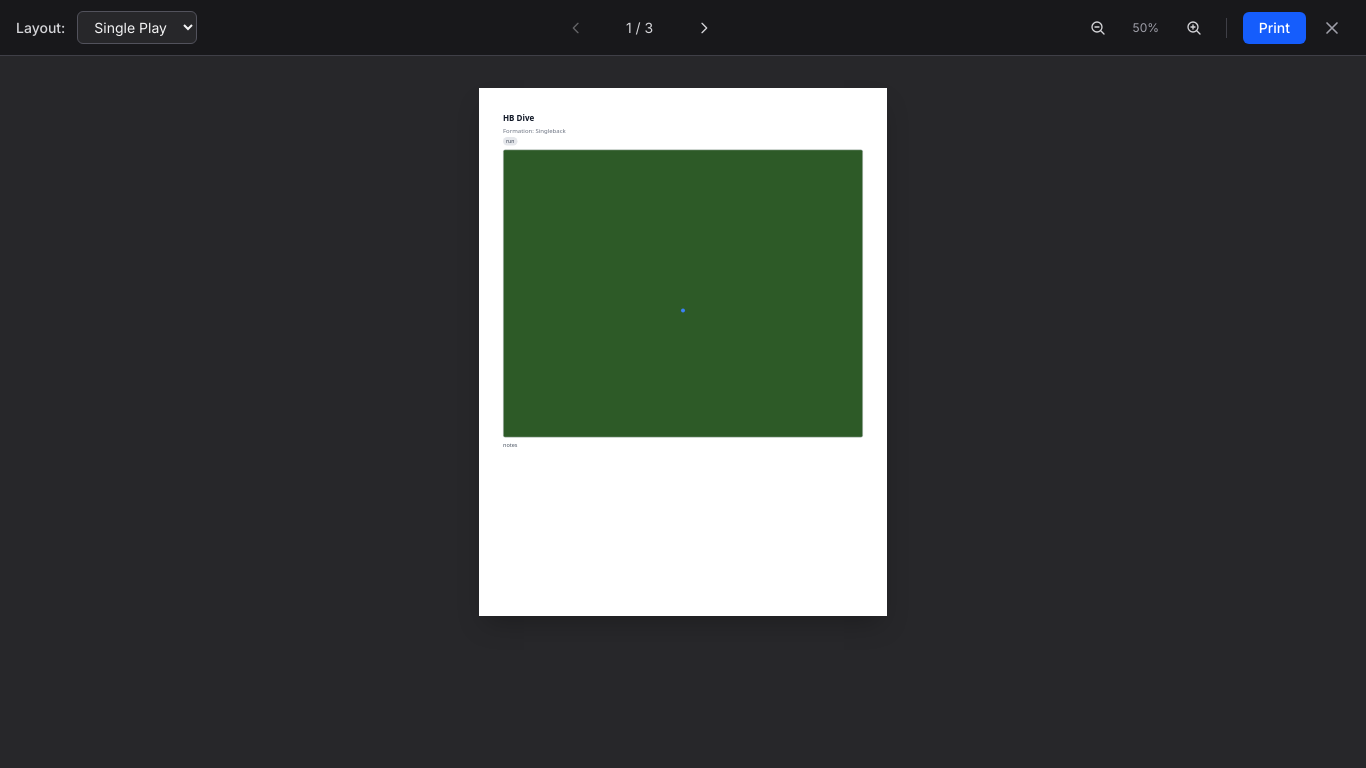
PrintPreview › Page navigation › navigates to next page
Click the button with test id "next-page-btn" at (704, 28), box [688,16,720,40]
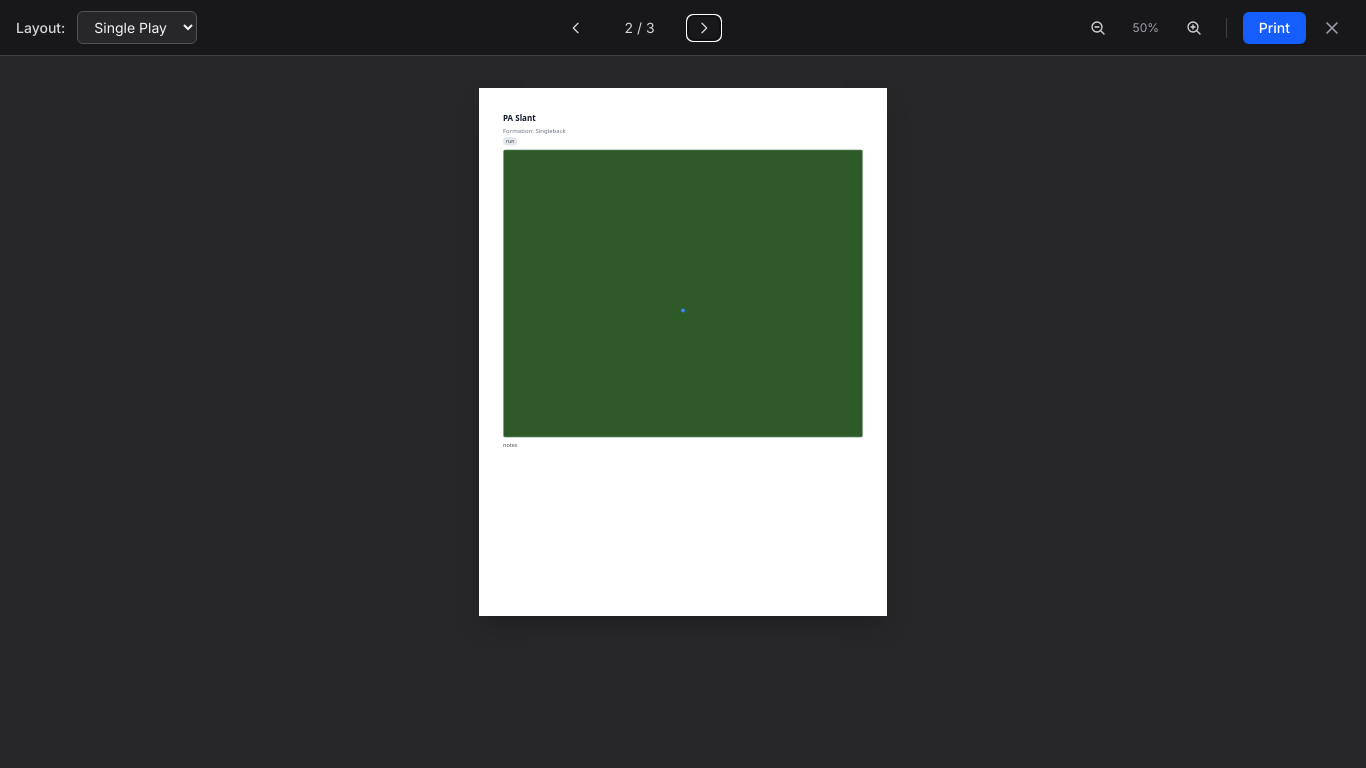
expect the text with test id "page-count" reads "2 / 3": met, box [624,18,655,36]
